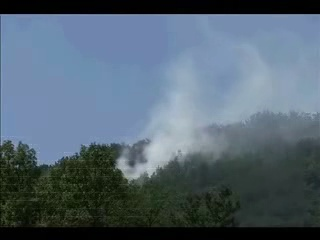smoke: (178, 14, 291, 156), (108, 99, 194, 184)
